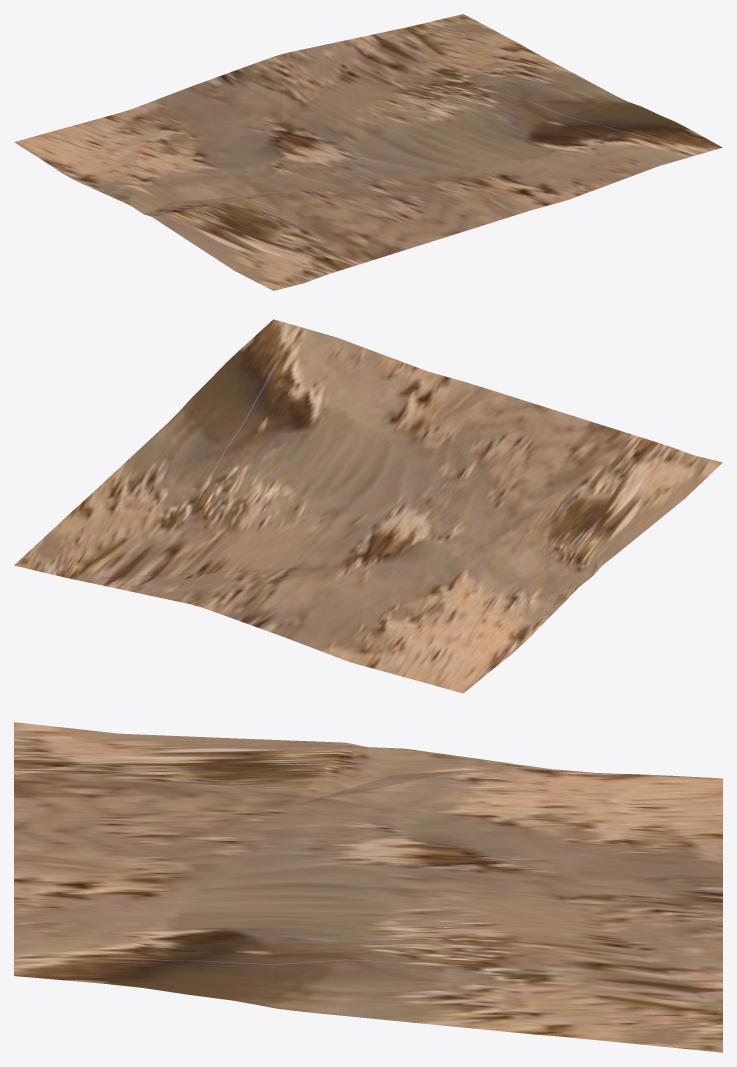
3 renders of one model, top to bottom at view 1: azimuth 30°, elevation 25°; view 2: azimuth 150°, elevation 25°; view 3: azimuth 270°, elevation 25°, orthographic. The views are drawn at different scales.
Bounding box in the file's own units: 1.04 × 0.1658 × 1.04.
Materials: 3 (3 with a texture image).
